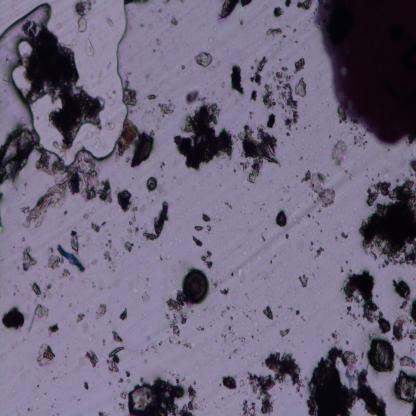Air bubble: (0, 0, 139, 164)
Background material: (26, 21, 106, 146), (307, 344, 388, 415), (358, 178, 416, 268), (174, 103, 235, 169), (243, 347, 304, 412), (122, 376, 200, 416), (66, 150, 115, 204), (239, 124, 283, 182), (261, 66, 299, 130), (22, 182, 66, 229), (340, 268, 377, 323), (0, 126, 32, 184), (117, 119, 155, 166), (303, 170, 336, 210), (160, 291, 188, 337), (142, 199, 170, 243), (367, 334, 396, 375), (394, 369, 416, 415), (222, 325, 245, 363), (218, 0, 255, 21), (389, 276, 411, 310), (84, 125, 110, 153), (74, 2, 96, 32), (101, 238, 121, 270), (0, 307, 25, 332), (139, 337, 167, 359), (248, 52, 266, 84), (106, 346, 126, 374), (331, 139, 349, 168), (229, 63, 245, 94), (168, 336, 195, 354), (117, 188, 136, 213), (38, 344, 56, 368), (122, 82, 139, 107), (194, 48, 214, 69), (391, 318, 406, 346), (38, 278, 56, 300), (377, 310, 392, 335), (124, 213, 141, 235), (22, 248, 38, 271), (85, 348, 101, 368), (158, 100, 176, 116), (223, 373, 238, 392), (103, 84, 117, 104), (114, 368, 131, 384), (25, 300, 33, 334), (399, 354, 416, 370), (95, 300, 107, 322), (142, 272, 151, 301), (241, 398, 257, 414), (85, 40, 98, 58), (201, 251, 214, 269), (294, 78, 307, 96), (70, 229, 80, 252), (35, 304, 49, 320), (152, 6, 165, 23), (185, 88, 199, 103), (59, 267, 73, 282), (116, 390, 126, 411), (277, 210, 288, 229), (297, 270, 308, 289), (10, 283, 23, 299), (250, 88, 260, 108), (296, 0, 314, 11), (261, 306, 275, 320), (220, 303, 233, 318), (146, 176, 158, 192), (48, 254, 61, 268), (104, 116, 115, 132), (31, 281, 42, 297), (409, 299, 416, 324), (111, 330, 123, 344), (82, 206, 94, 220), (192, 235, 204, 249), (211, 275, 222, 290), (266, 27, 284, 36), (272, 6, 284, 19), (48, 322, 59, 336), (314, 245, 325, 259), (267, 113, 276, 130), (157, 160, 165, 178), (76, 311, 86, 325), (296, 58, 306, 72), (277, 302, 294, 310), (119, 307, 128, 322), (409, 157, 416, 176), (125, 240, 135, 253), (94, 408, 110, 416), (142, 69, 151, 83), (123, 0, 144, 6), (24, 404, 35, 415), (218, 286, 230, 296), (90, 222, 100, 234), (342, 168, 352, 180), (223, 199, 234, 209), (90, 283, 102, 292), (0, 218, 6, 236), (167, 16, 176, 28), (202, 212, 212, 222), (372, 167, 382, 177), (146, 107, 156, 117), (296, 154, 305, 165), (106, 16, 115, 27), (102, 218, 109, 231), (235, 267, 244, 277), (195, 323, 205, 332), (145, 91, 156, 99), (83, 380, 90, 392), (247, 108, 254, 120), (280, 327, 289, 336), (284, 0, 294, 8), (0, 189, 5, 204), (194, 224, 204, 231), (246, 313, 254, 321), (89, 260, 97, 268), (260, 232, 266, 242), (310, 239, 315, 251), (61, 209, 68, 216), (9, 340, 15, 348), (238, 18, 244, 26), (140, 21, 146, 29), (56, 21, 61, 30), (18, 352, 24, 359), (299, 314, 306, 320), (51, 377, 58, 383), (284, 185, 291, 191), (293, 38, 300, 44), (16, 194, 21, 202), (228, 316, 234, 322), (267, 257, 273, 263), (230, 271, 235, 278), (295, 308, 300, 315), (208, 224, 212, 232), (158, 38, 162, 46), (312, 271, 316, 279), (365, 166, 369, 174), (286, 131, 291, 137), (151, 48, 156, 54), (180, 64, 185, 70), (307, 213, 311, 220), (246, 291, 249, 300), (232, 170, 238, 174), (286, 233, 290, 239), (253, 308, 257, 314), (316, 220, 320, 226), (280, 196, 284, 202), (258, 207, 264, 211), (364, 174, 370, 178), (320, 228, 324, 234), (327, 133, 331, 139), (22, 235, 25, 242), (163, 0, 170, 3), (312, 213, 315, 220), (263, 276, 267, 281), (395, 178, 399, 183), (240, 279, 244, 284), (371, 177, 376, 181), (294, 28, 297, 34), (44, 392, 48, 396), (36, 384, 40, 388), (273, 254, 277, 258), (286, 24, 291, 27), (251, 334, 254, 339), (263, 201, 266, 206), (303, 125, 306, 130), (284, 34, 287, 38), (69, 302, 72, 306), (256, 329, 260, 332), (264, 226, 267, 230), (388, 147, 390, 152), (308, 124, 312, 126), (56, 414, 58, 416), (258, 339, 259, 342)
Cotton: (57, 244, 86, 273)
Diatom: (181, 268, 209, 304)
Pen: (315, 0, 416, 146)
